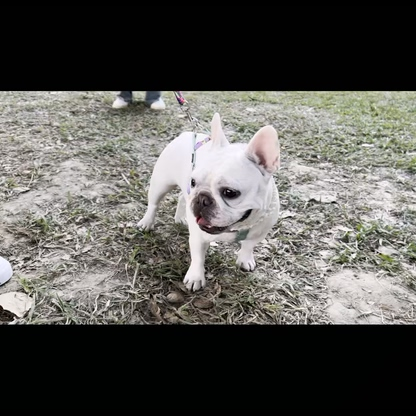bulldog: (135, 109, 285, 296)
